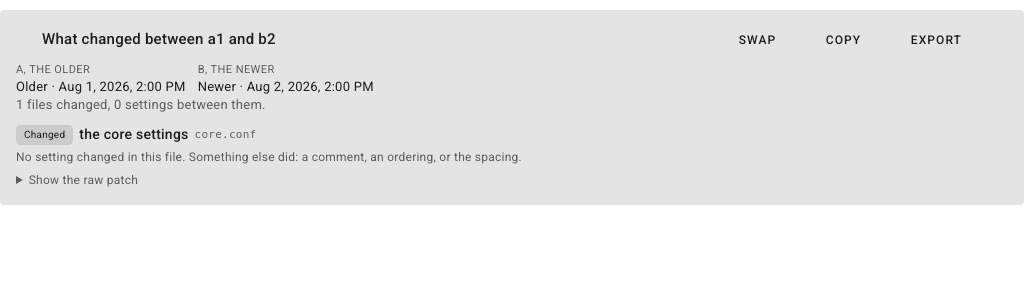
Test: the export menu › shows the honest no-match state when nothing survives the filter
The image size is (1024, 281).
Click the button "Export": (927, 40) [879,26,974,54]
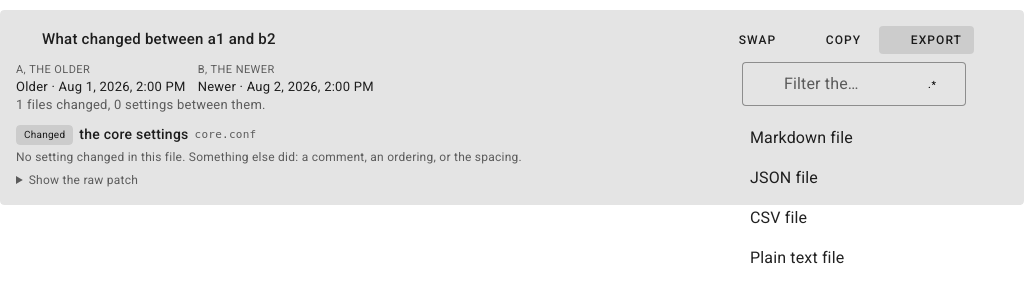
In the search field labelled "Filter these commands": (822, 82) [778,62,866,102], type "nothing matches this at all"
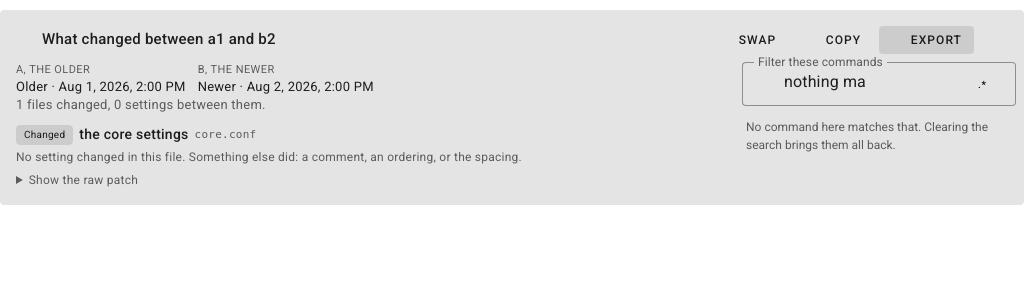
Check: the text "No command here matches that" is shown, box [746,120,988,152]
